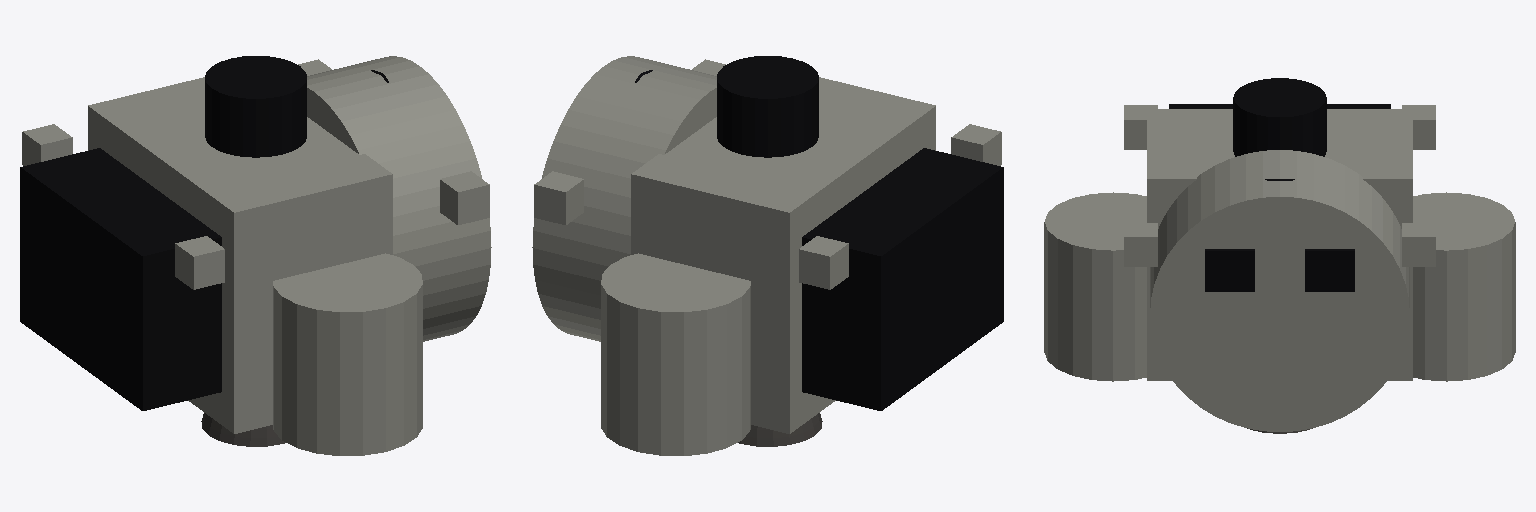
URDF robot description (lm_ascent):
<?xml version="1.0"?>
<!-- LM Eagle ascent stage, APS engine, docking drogue on top, at scale -->
<robot name="lm_ascent">
  <link name="base">
    <visual>
      <origin xyz="0 0 0" rpy="0 0 0"/>
      <geometry><mesh filename="meshes/lm_ascent_gray.stl"/></geometry>
      <material name="base_0"><color rgba="0.580 0.580 0.550 1"/></material>
    </visual>
    <visual>
      <origin xyz="0 0 0" rpy="0 0 0"/>
      <geometry><mesh filename="meshes/lm_ascent_black.stl"/></geometry>
      <material name="base_1"><color rgba="0.080 0.080 0.090 1"/></material>
    </visual>
    <visual>
      <origin xyz="0 0 0" rpy="0 0 0"/>
      <geometry><mesh filename="meshes/lm_ascent_engine.stl"/></geometry>
      <material name="base_2"><color rgba="0.300 0.290 0.280 1"/></material>
    </visual>
    <inertial><mass value="2470"/><origin xyz="0 0 0"/><inertia ixx="1" ixy="0" ixz="0" iyy="1" iyz="0" izz="1"/></inertial>
  </link>
</robot>

--- Render facts (derived) ---
Views: 3 orthographic renders of the robot side by side, from view 1: azimuth 30°, elevation 25°; view 2: azimuth 150°, elevation 25°; view 3: azimuth 270°, elevation 25°.
Robot: lm_ascent — 1 links, 0 joints (none); root link base; default pose: every joint at zero.
Links seen in each view (by area): view 1: base; view 2: base; view 3: base.
Link boxes in pixels (x1,y1,x2,y2): base: (20, 56, 491, 455); base: (532, 56, 1003, 455); base: (1044, 78, 1515, 433).
Size in the robot's own frame: 3.25 by 4.24 by 3.13 metres.
3 mesh visuals loaded from 3 distinct referenced files (3 binary STL).
